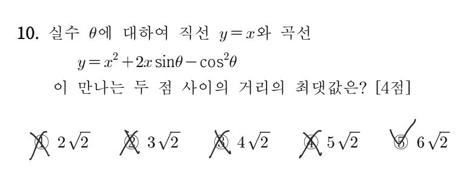1: (388, 118, 417, 154)
paper: (392, 133, 411, 153), (302, 133, 321, 153), (212, 133, 231, 153), (122, 132, 141, 152), (32, 133, 51, 153)
